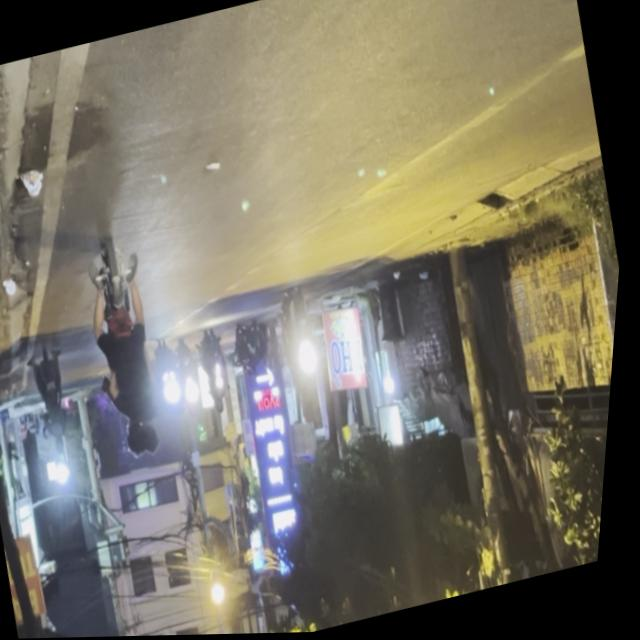licenseplate: (69, 226, 194, 470)
motorcyclist: (129, 419, 157, 460), (144, 420, 171, 459)
